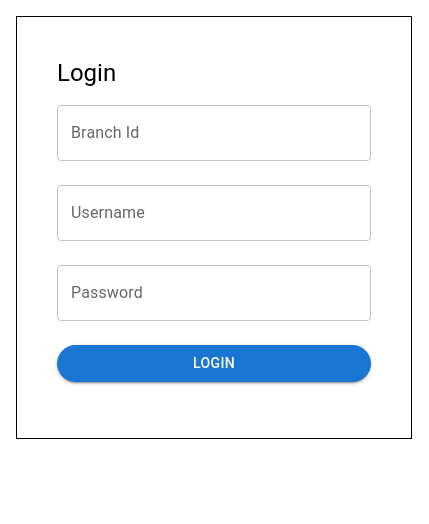
LoginComponent › should render "This field is required." error if form was submitted without values
Click the button "Login". click: (214, 363)
box: [57,345,371,382]
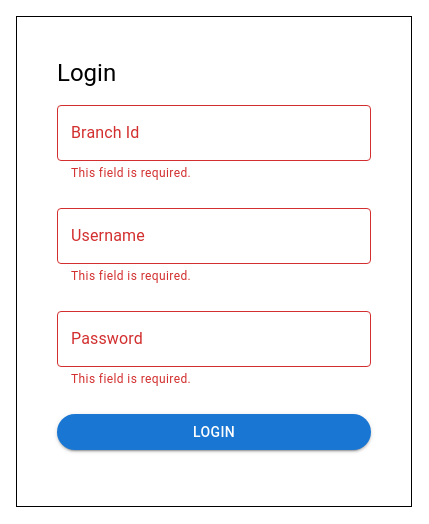
Check: the text "This field is required." is shown 3 times, box [71,166,191,180]; [71,269,191,283]; [71,372,191,386]
